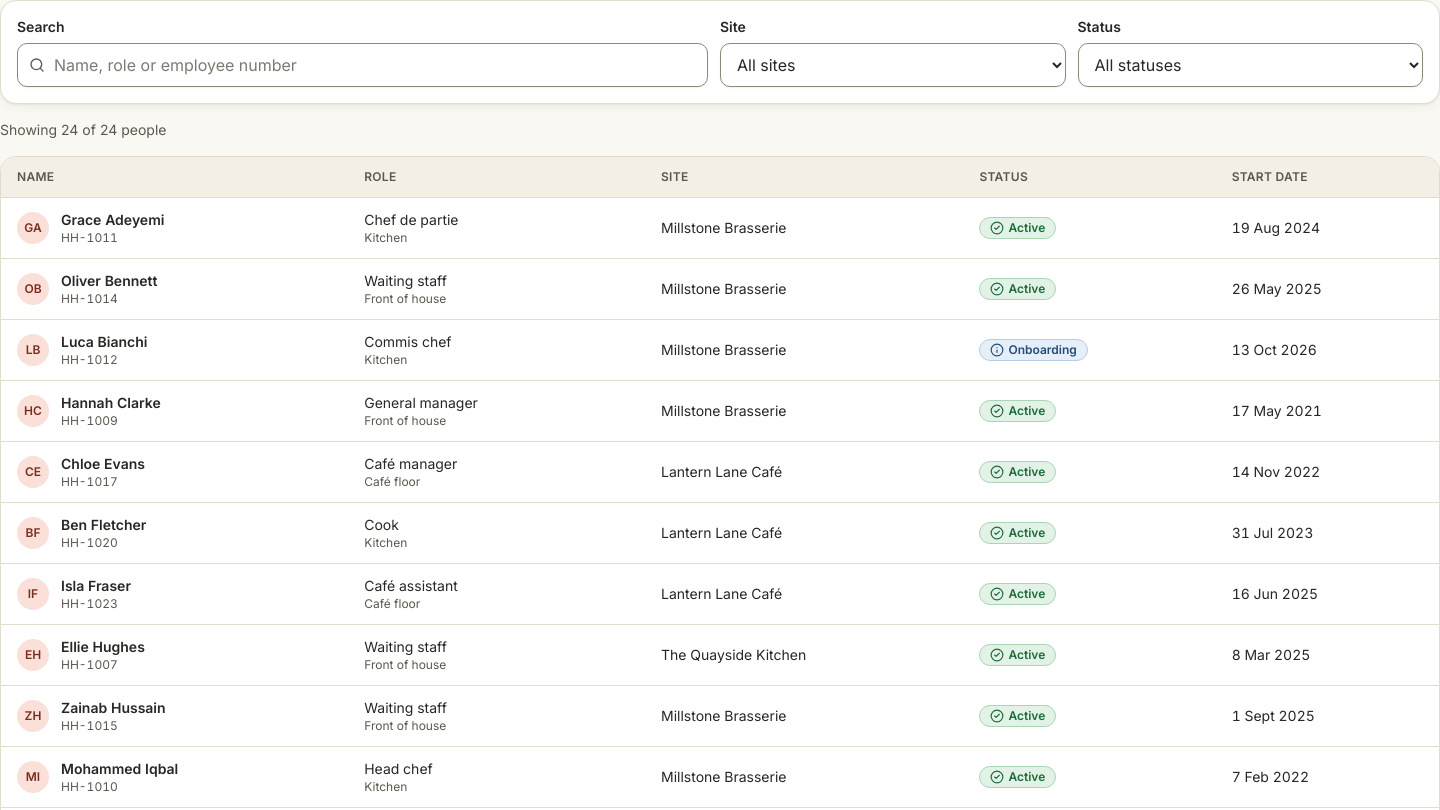
PeopleDirectory › shows a helpful empty state when nothing matches
Type "no such person zzz" into the search field labelled "Search" at (362, 65), box [17,43,708,87]
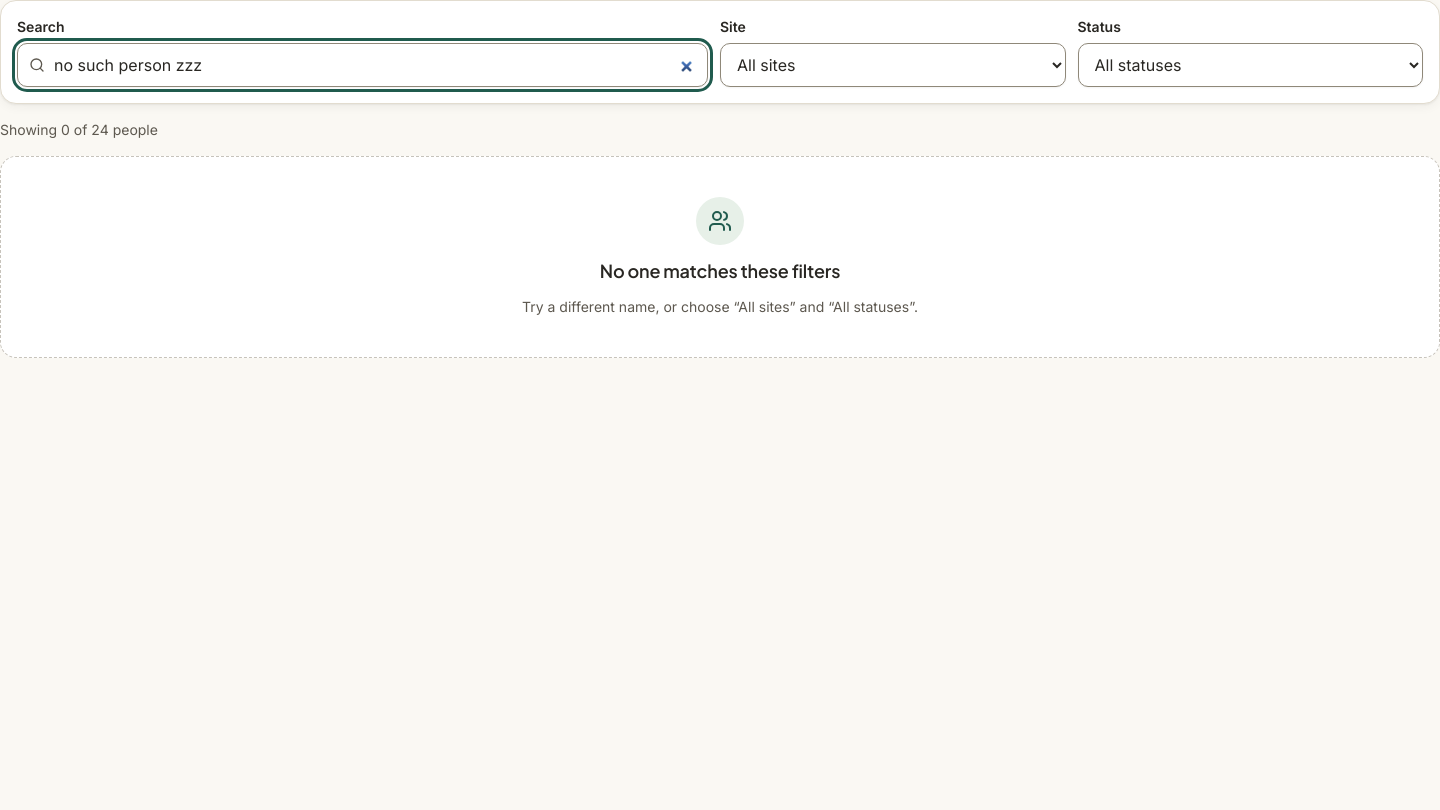
Result: the heading "No one matches these filters" is shown at [600,257,840,285]
Result: the message shows "Showing 0 of" at [0,121,158,138]
